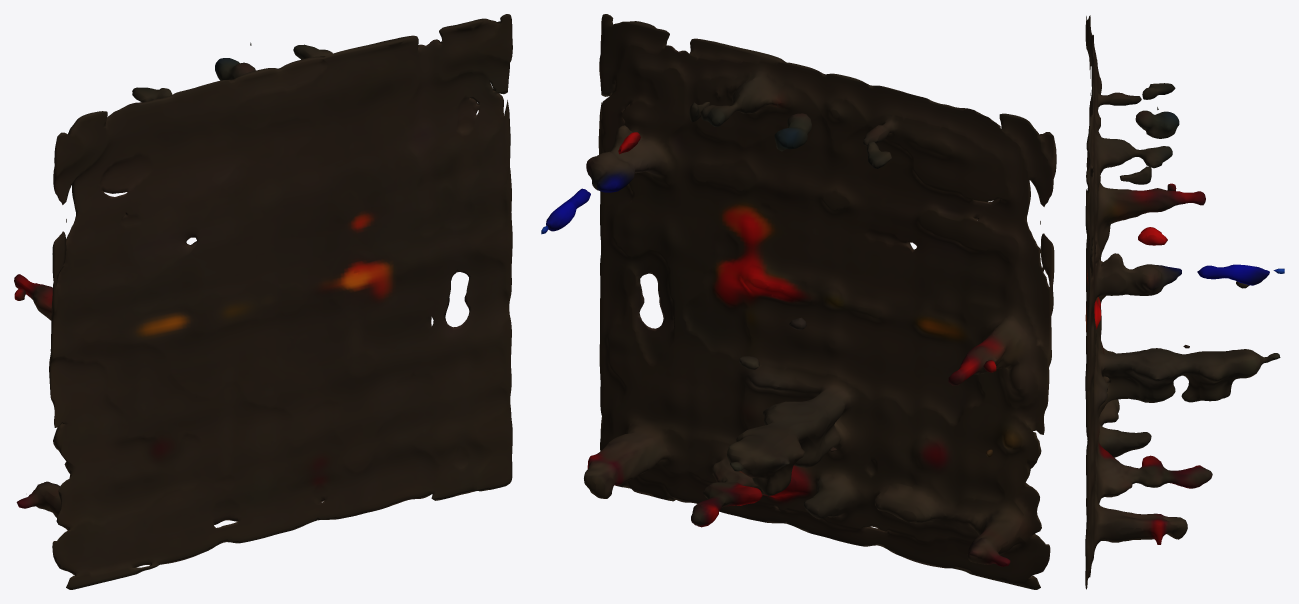
3 renders of one model, left to right at view 1: azimuth 30°, elevation 25°; view 2: azimuth 150°, elevation 25°; view 3: azimuth 270°, elevation 25°, orthographic. The views are drawn at different scales.
Visible parts, largest first — view 1: plyFile; view 2: plyFile; view 3: plyFile.
Part boxes in pixels (bbox=[...]): plyFile: bbox=[14, 14, 512, 589]; plyFile: bbox=[541, 14, 1056, 589]; plyFile: bbox=[1085, 15, 1284, 589].
Bounding box in the file's own units: 196 × 194 × 87.35.
